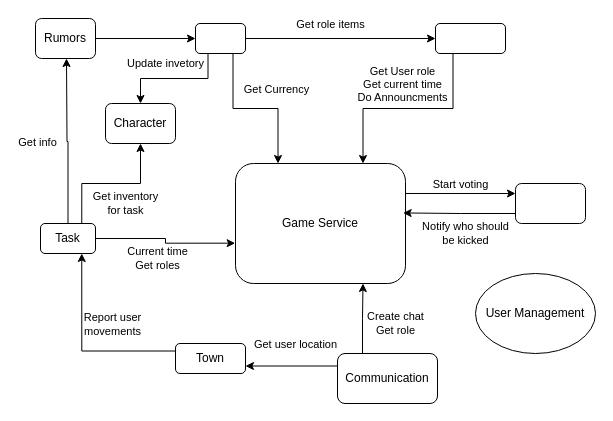
The diagram is 613 pixels wide and 421 high, and some of its shapes have lost their labels. The box of each missing label's shape, as (x1, y1, x2, y2) in pixels:
Roleplay: (434, 22, 506, 54)
Shop: (194, 22, 246, 54)
Voting: (514, 182, 586, 224)
